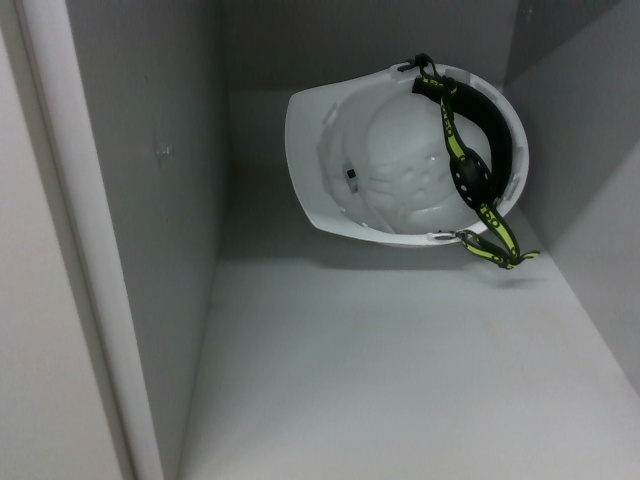helmet: (276, 51, 528, 251)
